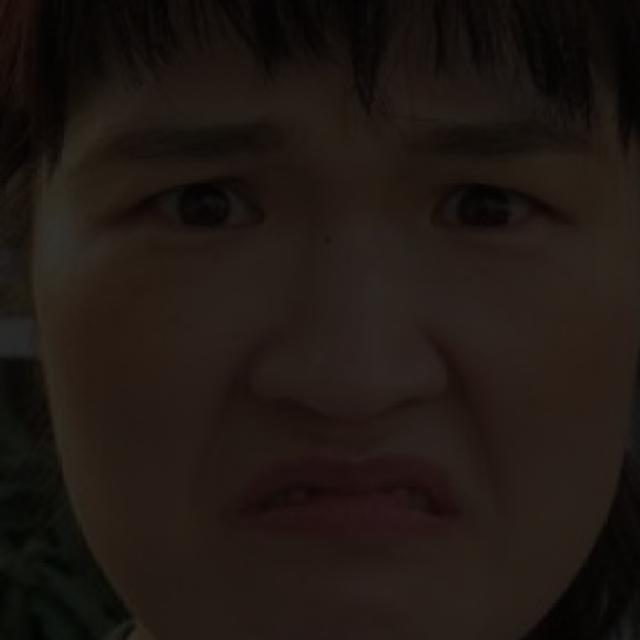Disgust: (49, 82, 640, 595)
